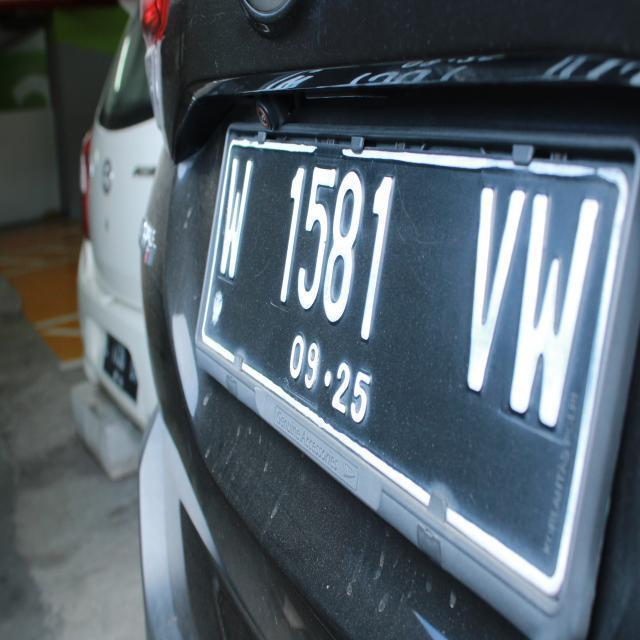1: (352, 152, 399, 355), (262, 151, 298, 308)
5: (296, 150, 338, 318)
8: (320, 152, 368, 332)
V: (448, 161, 534, 409)
W: (509, 175, 598, 439), (203, 138, 260, 288)
